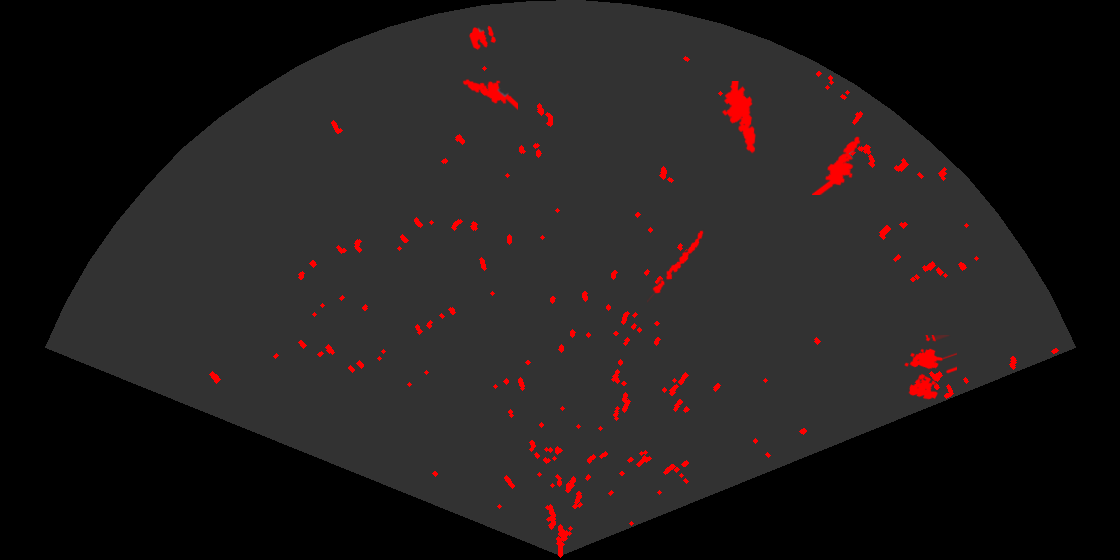ball: (467, 24, 498, 52)
cage: (903, 335, 957, 401)
chain: (647, 229, 705, 304)
frogman: (812, 135, 862, 195), (720, 81, 758, 154), (461, 77, 518, 112)
